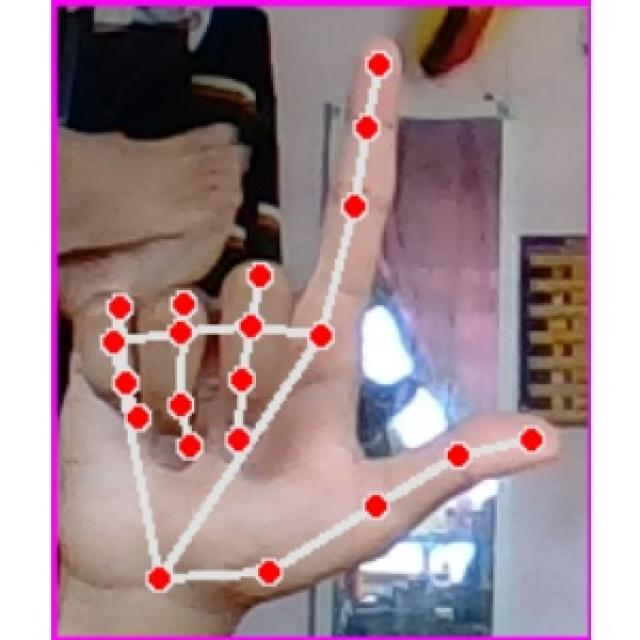L: (65, 30, 567, 616)
